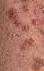plaque psoriasis: (24, 0, 44, 55), (10, 10, 28, 33), (27, 49, 44, 71), (20, 36, 34, 51)
